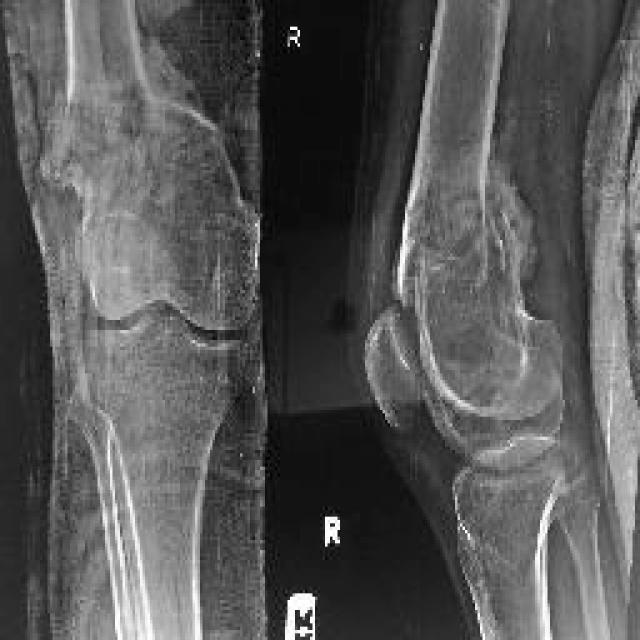bone-cancer: (43, 26, 254, 214), (389, 120, 538, 311)
